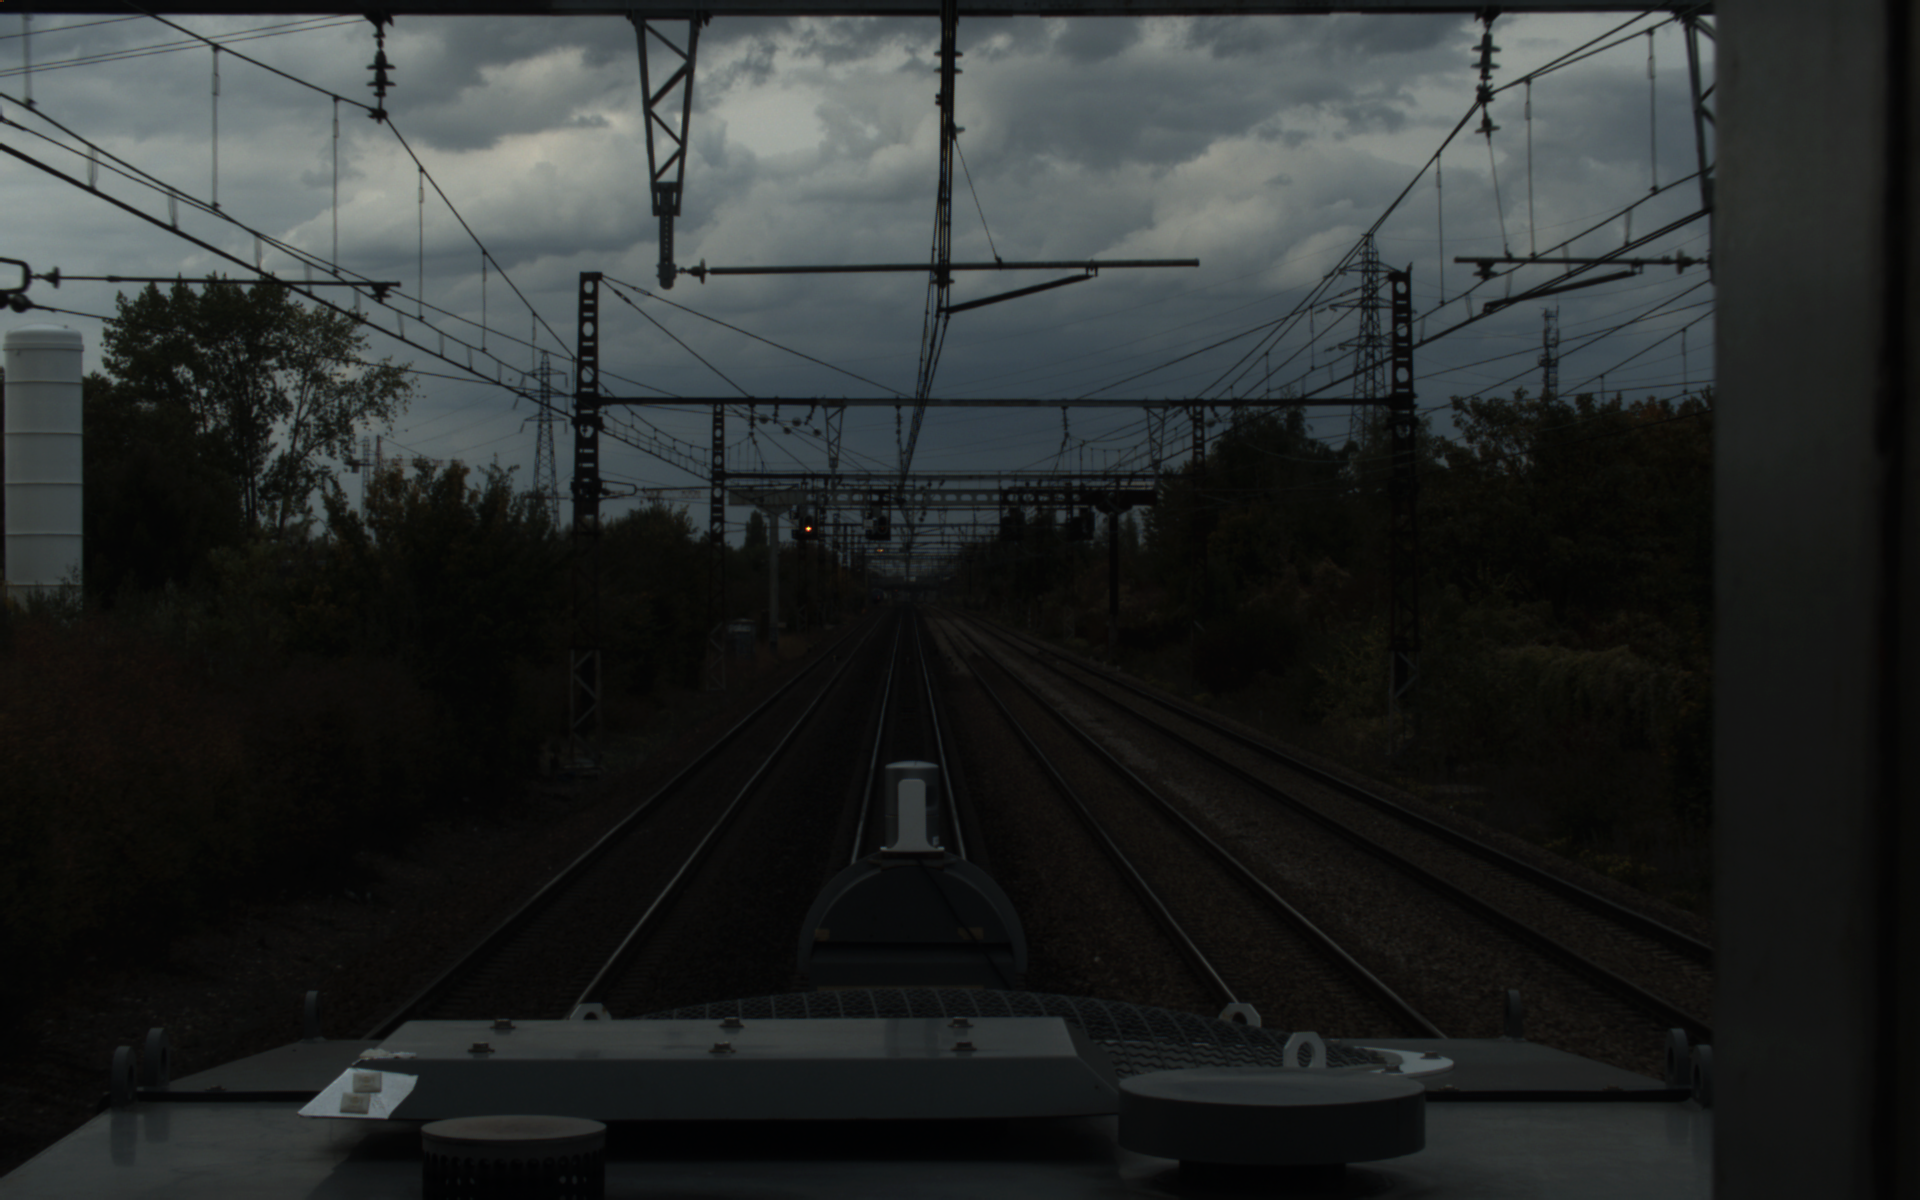Blinking: (800, 513, 816, 535), (875, 512, 889, 535)
